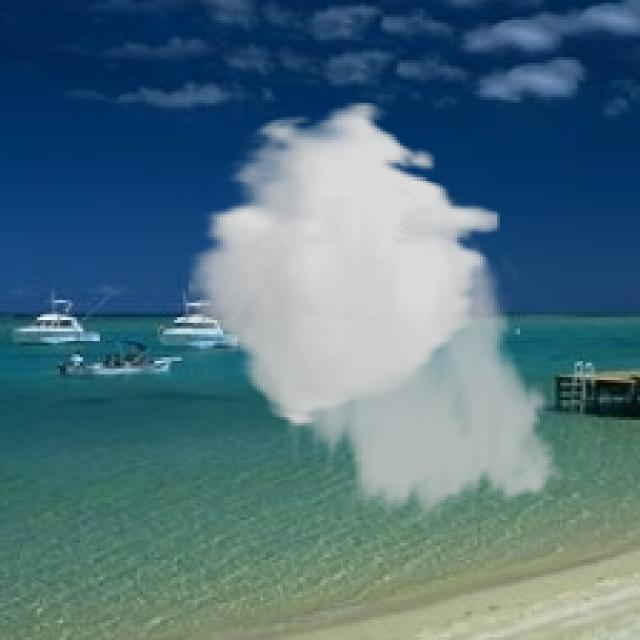smoke: (188, 100, 572, 526)
